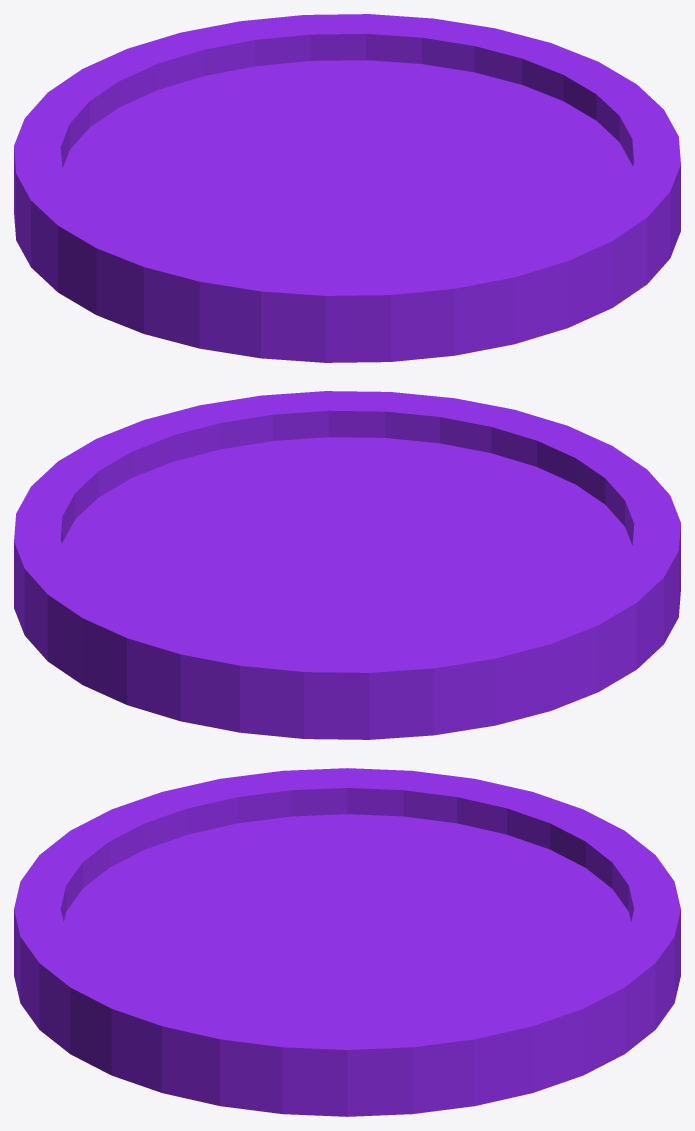
Rendered from MegaCoin.fbx.
3 renders of one model, top to bottom at view 1: azimuth 30°, elevation 25°; view 2: azimuth 150°, elevation 25°; view 3: azimuth 270°, elevation 25°, orthographic.
Parts seen in each view (by area): view 1: Cylinder; view 2: Cylinder; view 3: Cylinder.
Part boxes in pixels (box(x1,y1,x2,y2)): Cylinder: box(14, 14, 680, 362); Cylinder: box(14, 391, 680, 739); Cylinder: box(14, 768, 680, 1116).
Size of the model in its own units: 200 by 22.11 by 200.
